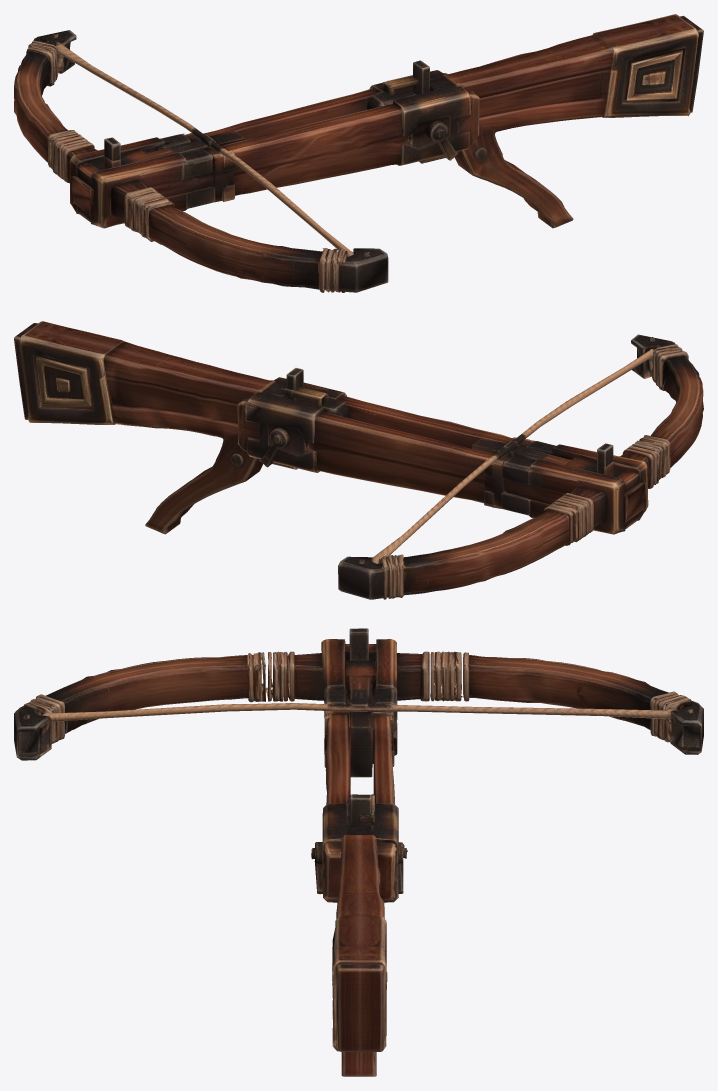
File: crossbow.glb
The picture shows the model from 3 angles, top to bottom: view 1: azimuth 30°, elevation 25°; view 2: azimuth 150°, elevation 25°; view 3: azimuth 270°, elevation 25°; orthographic projection. The views are drawn at different scales.
Size of the model in its own units: 0.9531 by 0.2793 by 0.8428.
Materials: 1 (1 with a texture image).
